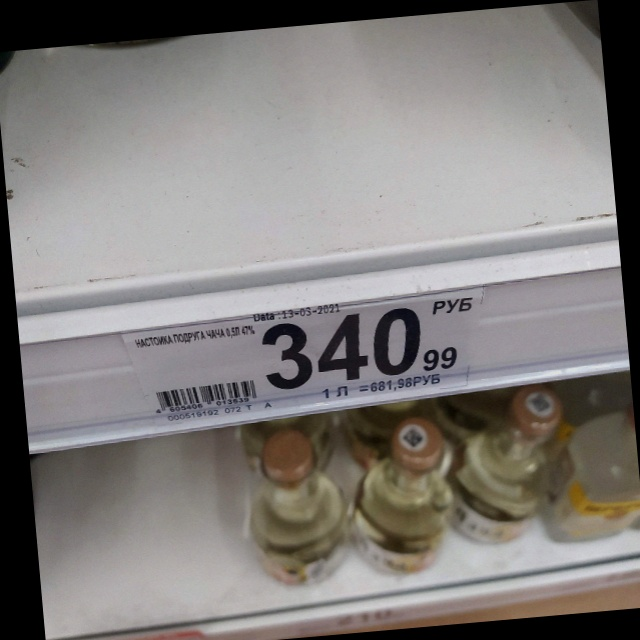barcode: (152, 378, 259, 416)
name: (133, 322, 257, 351)
price: (262, 305, 459, 392)
price_tag: (122, 286, 486, 431)
